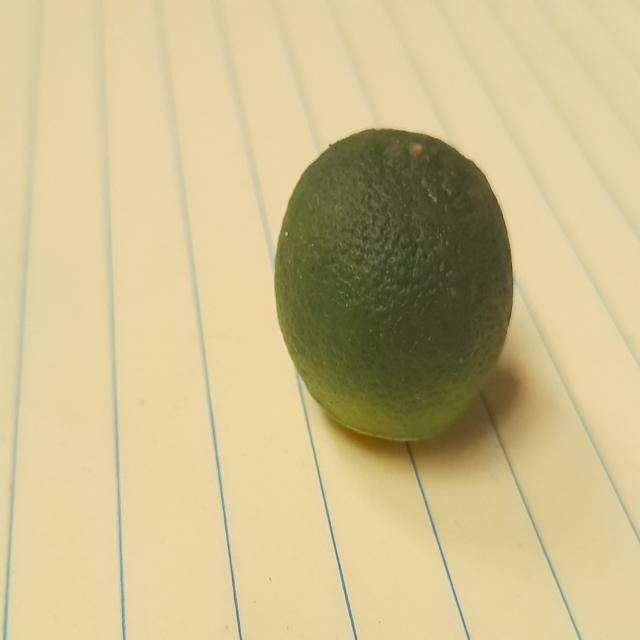heathy: (270, 108, 530, 450)
